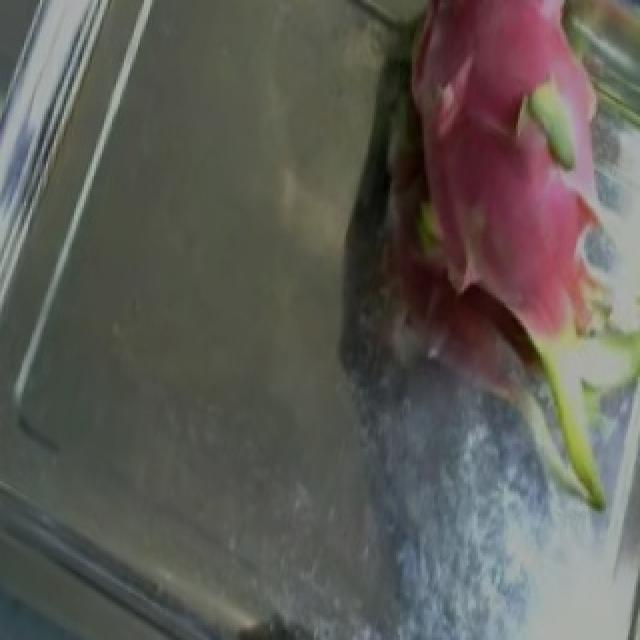fruit: (298, 8, 640, 472)
